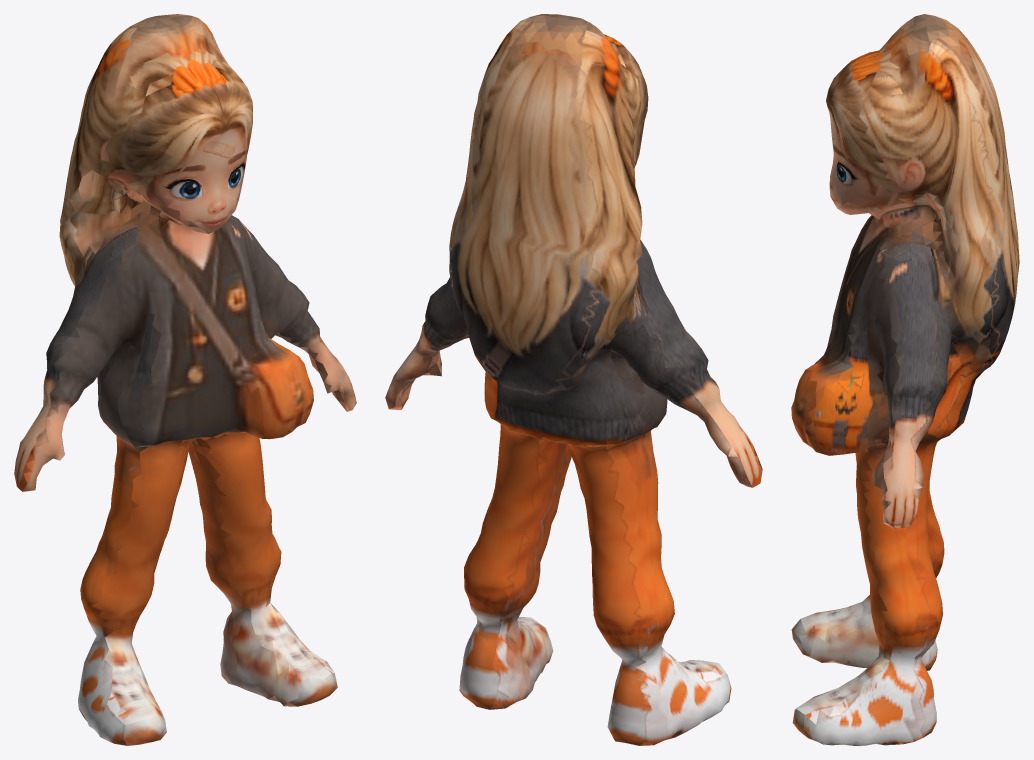
File: halloween-nurse-patch-toon-x5.glb
3 renders of one model, left to right at view 1: azimuth 30°, elevation 25°; view 2: azimuth 150°, elevation 25°; view 3: azimuth 270°, elevation 25°, orthographic. The views are drawn at different scales.
Parts seen in each view (by area): view 1: world; view 2: world; view 3: world.
Boxes of the visible parts, x1,y1,x2,y2 form: world: (14, 14, 356, 745); world: (385, 14, 762, 745); world: (791, 14, 1019, 745).
Size of the model in its own units: 2.49 by 4.71 by 1.45.
Materials: 1 (1 with a texture image).
